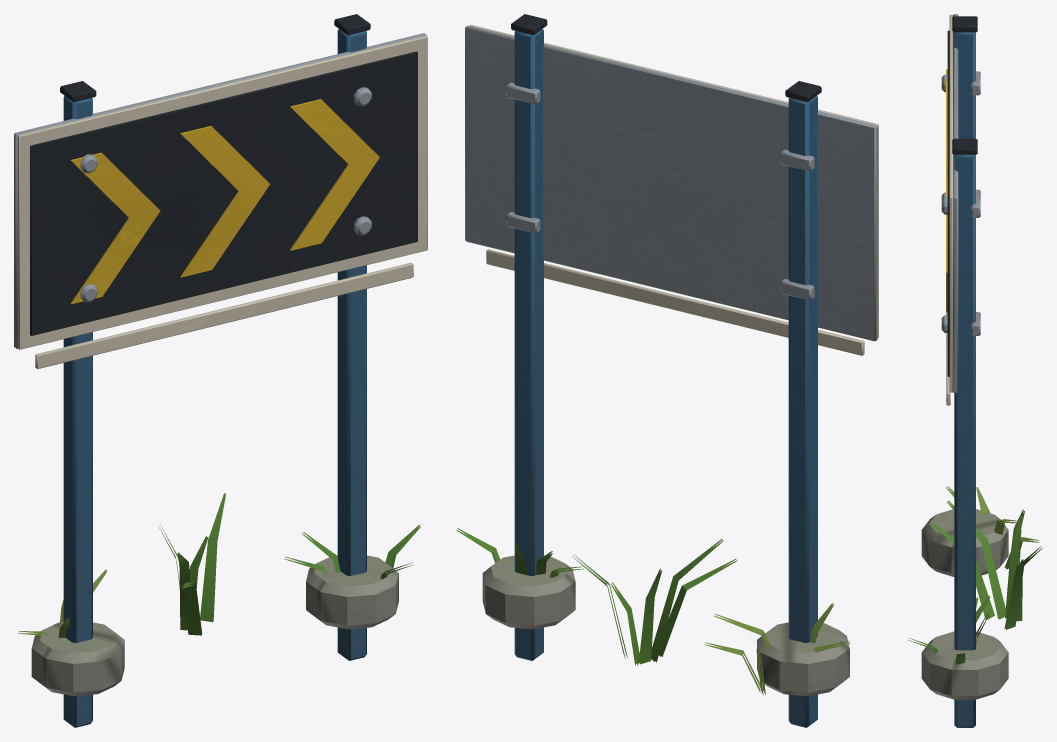
Rendered from road_sign_warning_curve.glb.
The picture shows the model from 3 angles, left to right: view 1: azimuth 30°, elevation 25°; view 2: azimuth 150°, elevation 25°; view 3: azimuth 270°, elevation 25°; orthographic projection. The views are drawn at different scales.
Parts seen in each view (by area): view 1: road_sign_warning_curve; view 2: road_sign_warning_curve; view 3: road_sign_warning_curve.
Part boxes in pixels (left/top/right/bottom): road_sign_warning_curve: left=14, top=14, right=427, bottom=727; road_sign_warning_curve: left=456, top=14, right=878, bottom=727; road_sign_warning_curve: left=908, top=14, right=1042, bottom=727.
Size of the model in its own units: 1.21 by 1.77 by 0.3754.
Materials: 12 (12 with a texture image).
